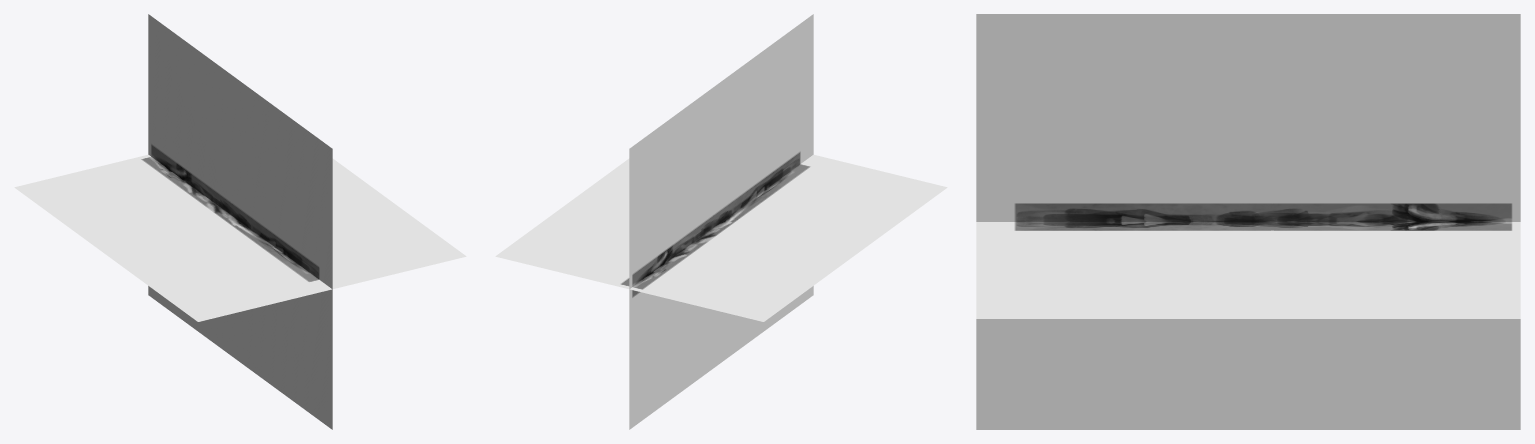
Rendered from Mesh_Plane_FineLiane.fbx.
3 views of the same model, side by side, from view 1: azimuth 30°, elevation 25°; view 2: azimuth 150°, elevation 25°; view 3: azimuth 270°, elevation 25° (orthographic). The views are drawn at different scales.
Visible parts, largest first — view 1: Plane005, Plane002; view 2: Plane005, Plane002; view 3: Plane005, Plane002.
Boxes of the visible parts, x1,y1,x2,y2 form: Plane005: (148,14,332,429); Plane002: (14,154,466,321); Plane005: (629,14,813,429); Plane002: (495,154,947,321); Plane005: (976,14,1520,429); Plane002: (976,222,1520,318).
Size of the model in its own units: 36.51 by 36.51 by 43.32.
